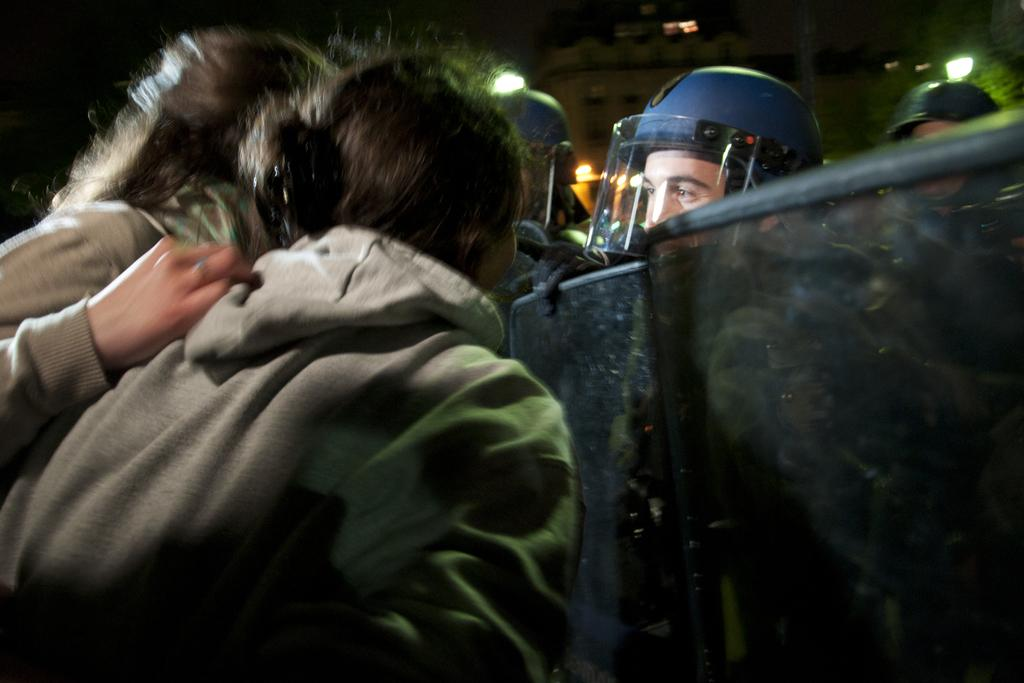helmet: (583, 65, 824, 267), (884, 79, 1012, 213)
nohelmet: (272, 53, 528, 316), (141, 21, 355, 246)
